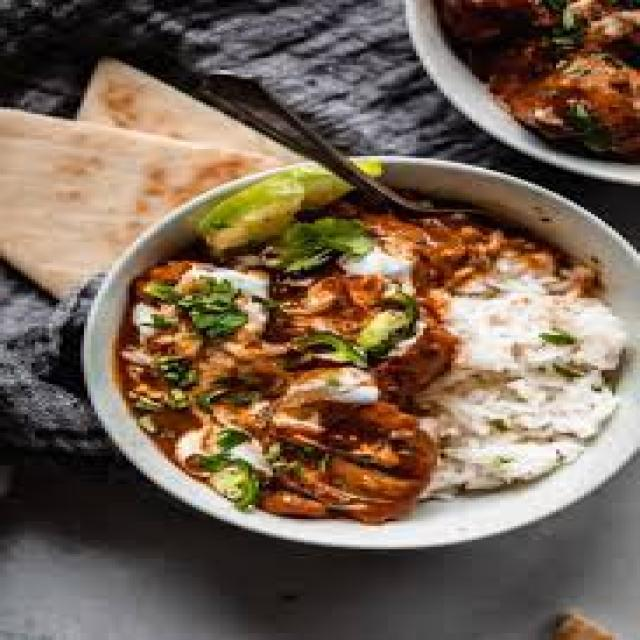Butter Chicken: (126, 216, 458, 519)
